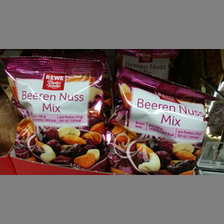nuts: (1, 55, 109, 172), (108, 67, 209, 174)
